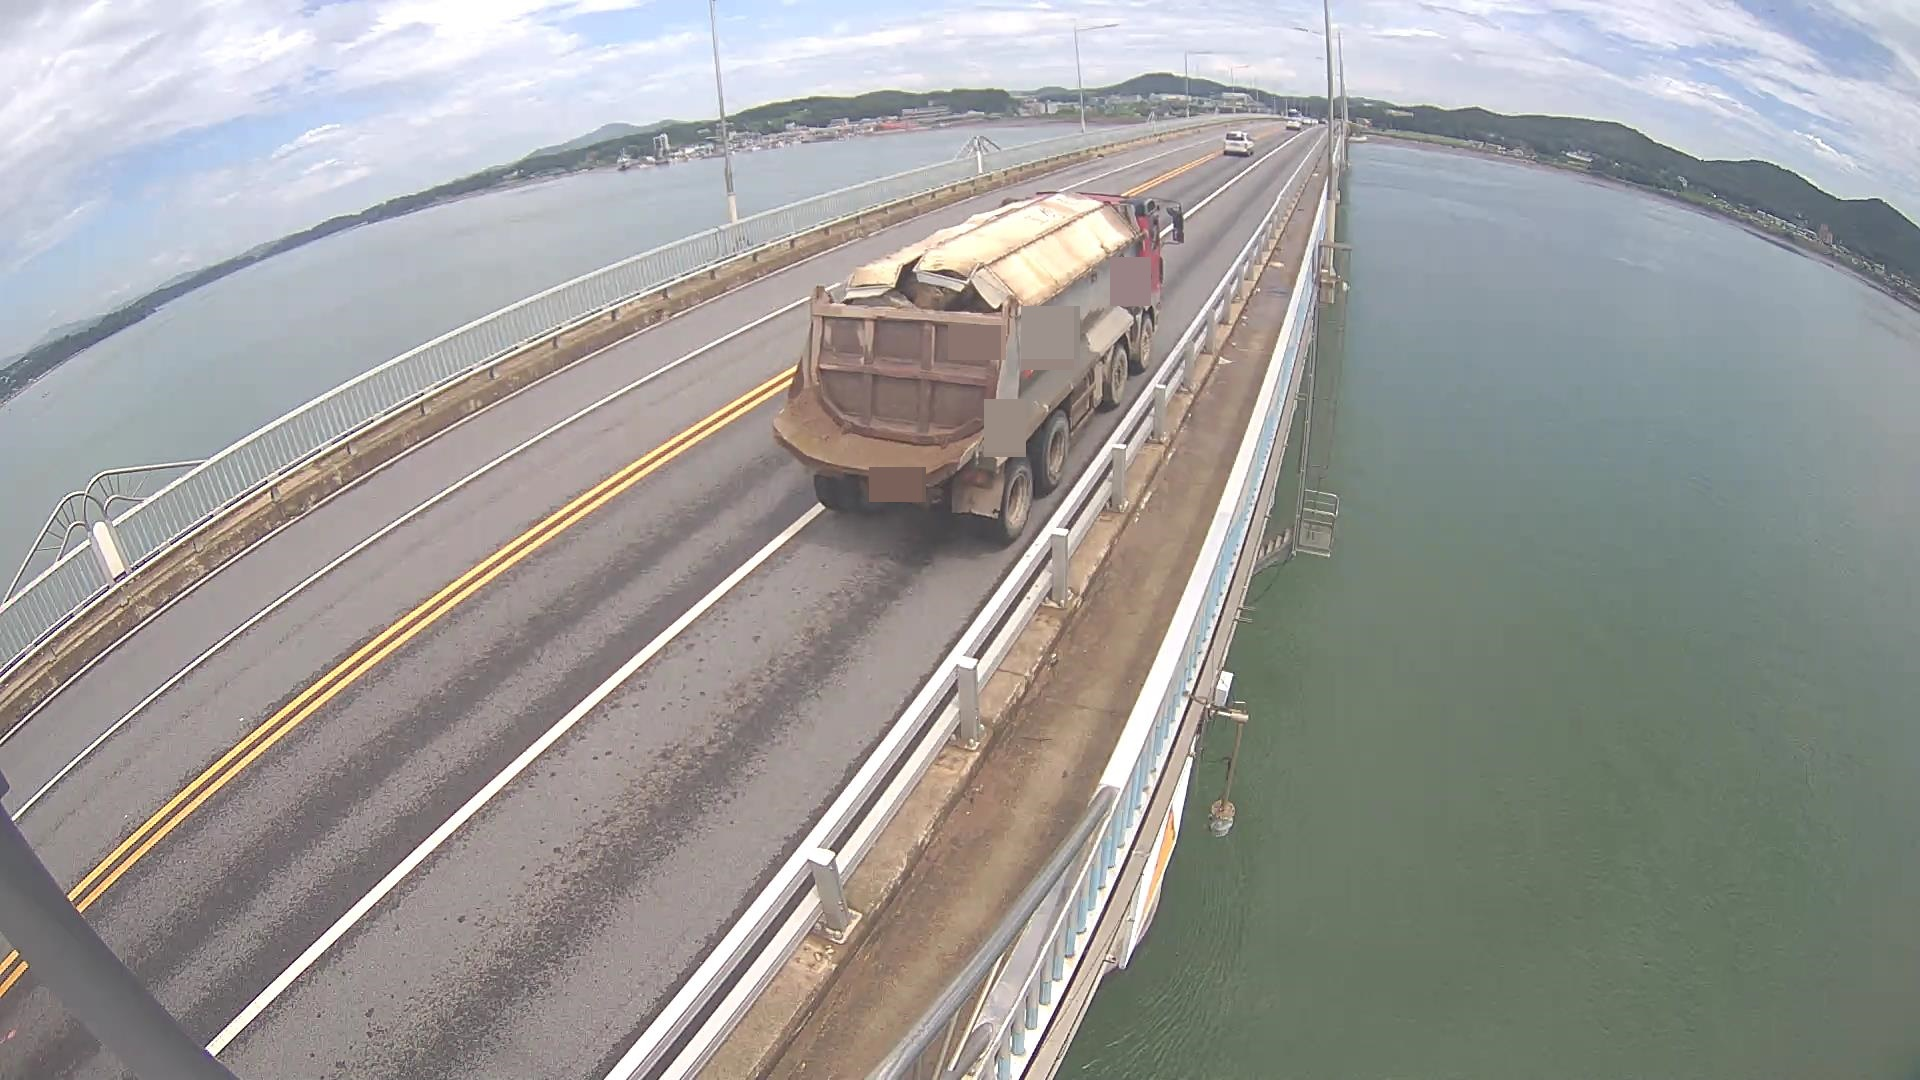정상차량: (773, 192, 1185, 544)
